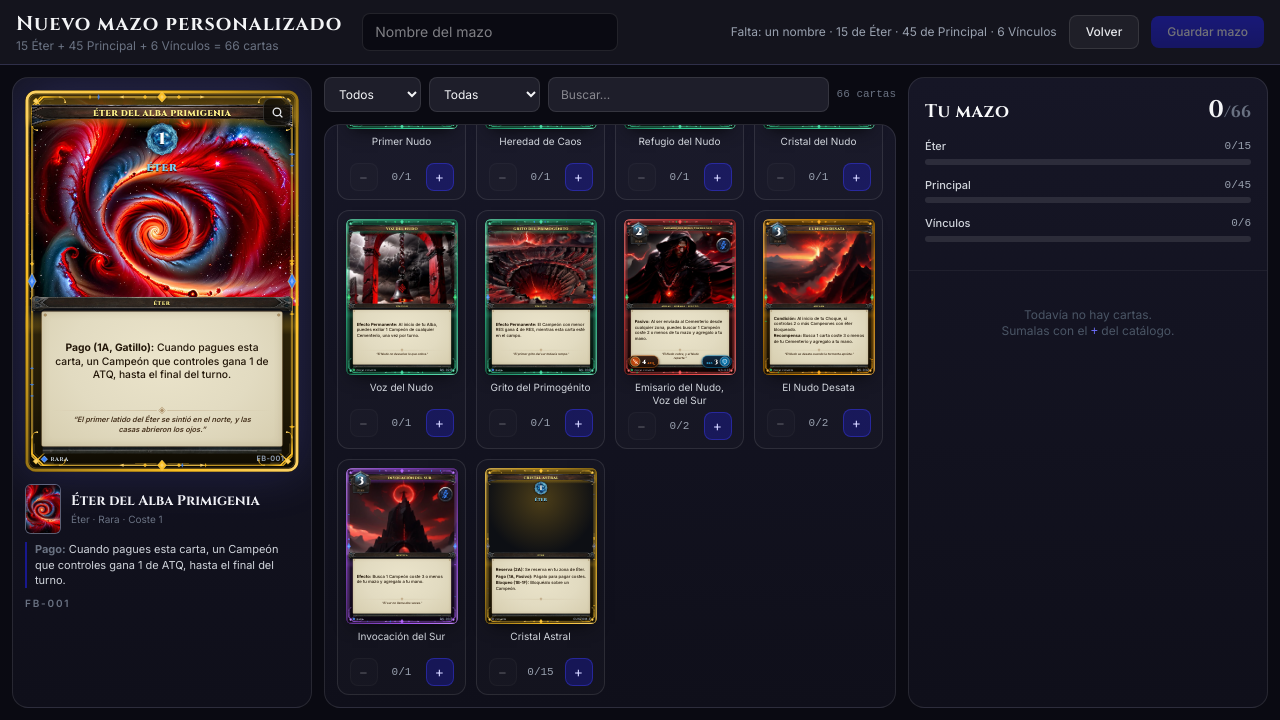
Test: MazoEditor › muestra coste y efectos de un Éter en el detalle (sin ATQ/RES)
(page scrolled)
Click the element named "Agregar copia de Cristal Astral": (540, 577) top-left (476, 459), bottom-right (605, 695)
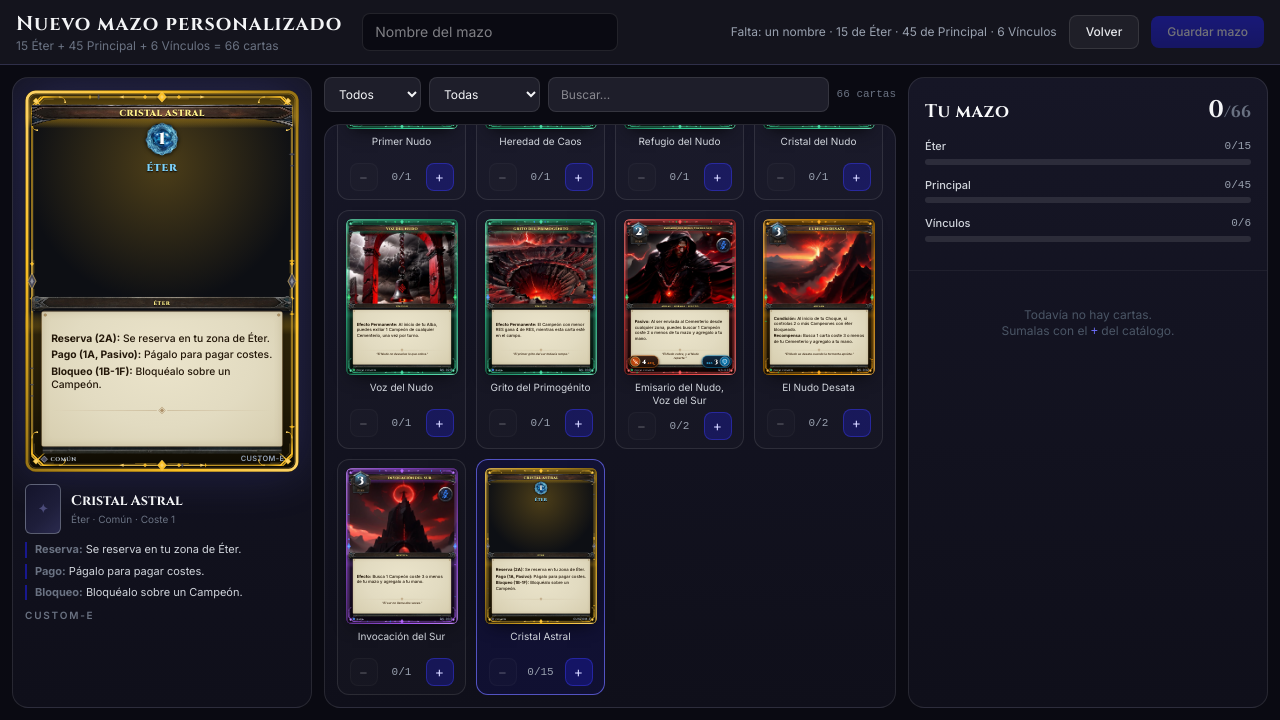
Result: the text "Reserva:" is shown at top-left (35, 542), bottom-right (83, 556)
Result: the text "Bloqueo:" is shown at top-left (35, 585), bottom-right (83, 599)
Result: the text "Se reserva en tu zona de Éter." is shown at top-left (86, 542), bottom-right (241, 556)
